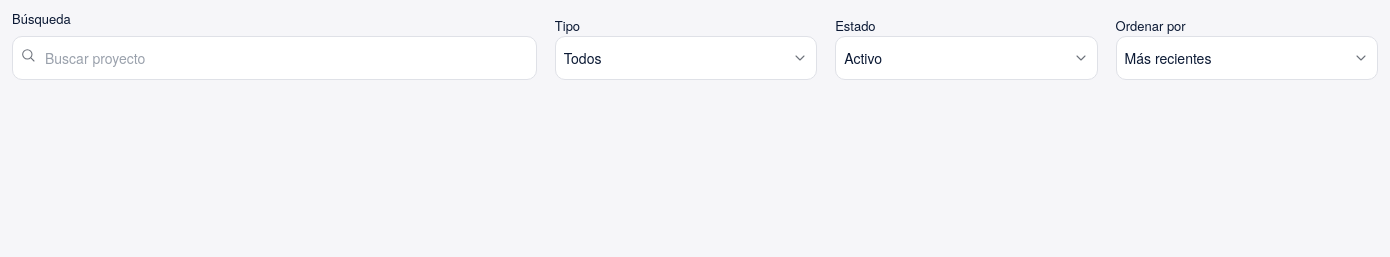
it: ProjectListFilters › el buscador y los tres filtros son Input/Select del DS
Check: the field labelled "Búsqueda" is shown, box 12,36 -> 537,80
Click the dropdown named "Tipo" at (583, 58), box 555,36 -> 817,80
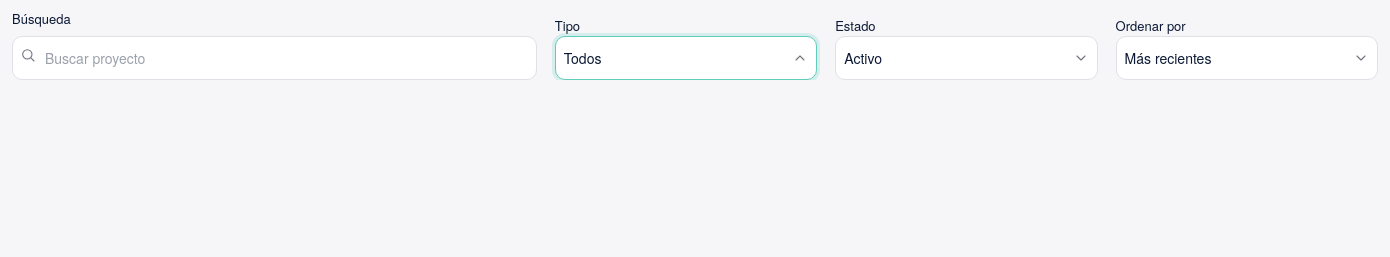
Check: the dropdown named "Estado" is shown, box 835,36 -> 1098,80
Check: the dropdown named "Tipo" is expanded, box 555,36 -> 817,80
